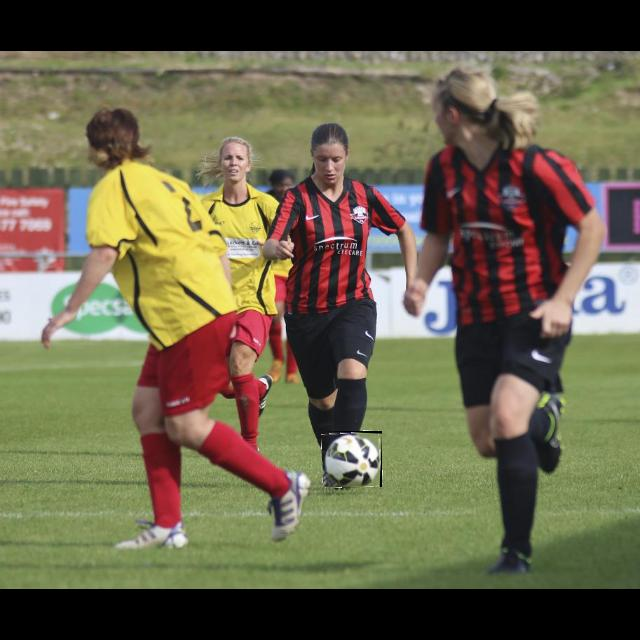Football: (322, 431, 382, 487)
